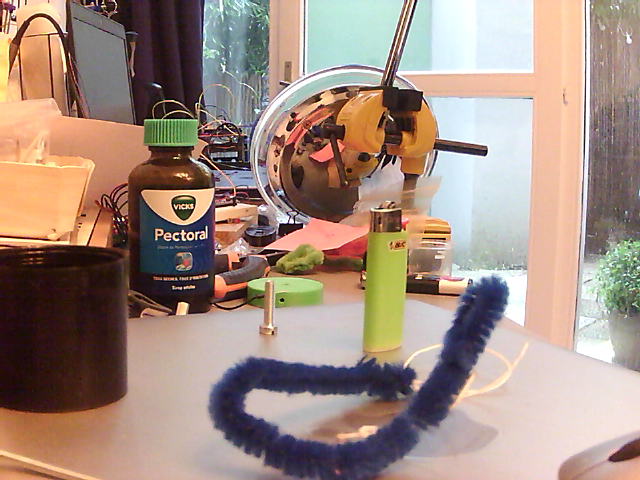bolt: (256, 280, 279, 335)
lighter: (359, 200, 411, 354)
